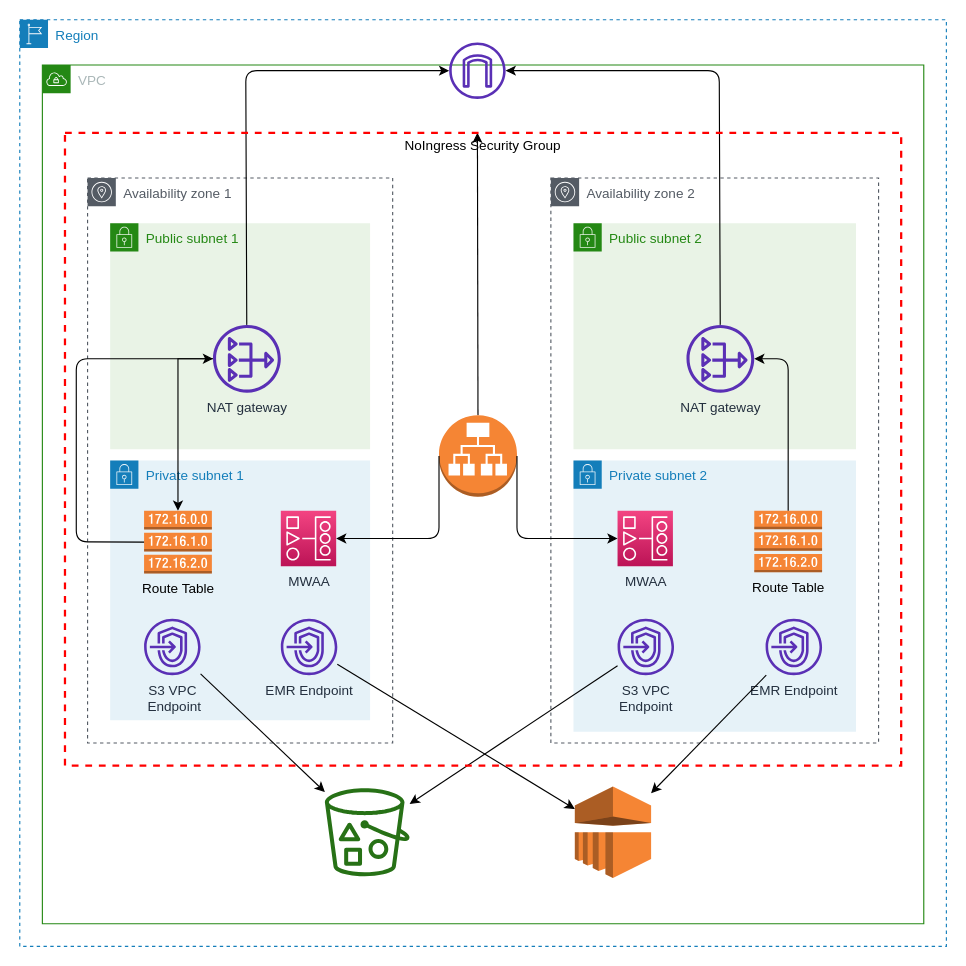
Image size: 966x966. Some labels were removed from this diagram. The shapes that lost their labels are listed below. From the top down, each one's centre as x and y in pixels, then its label:
At point (477, 70): "Internet Gateway".
At point (477, 455): "ALB".
At point (366, 832): "S3 Bucket".
At point (612, 831): "EMR".
